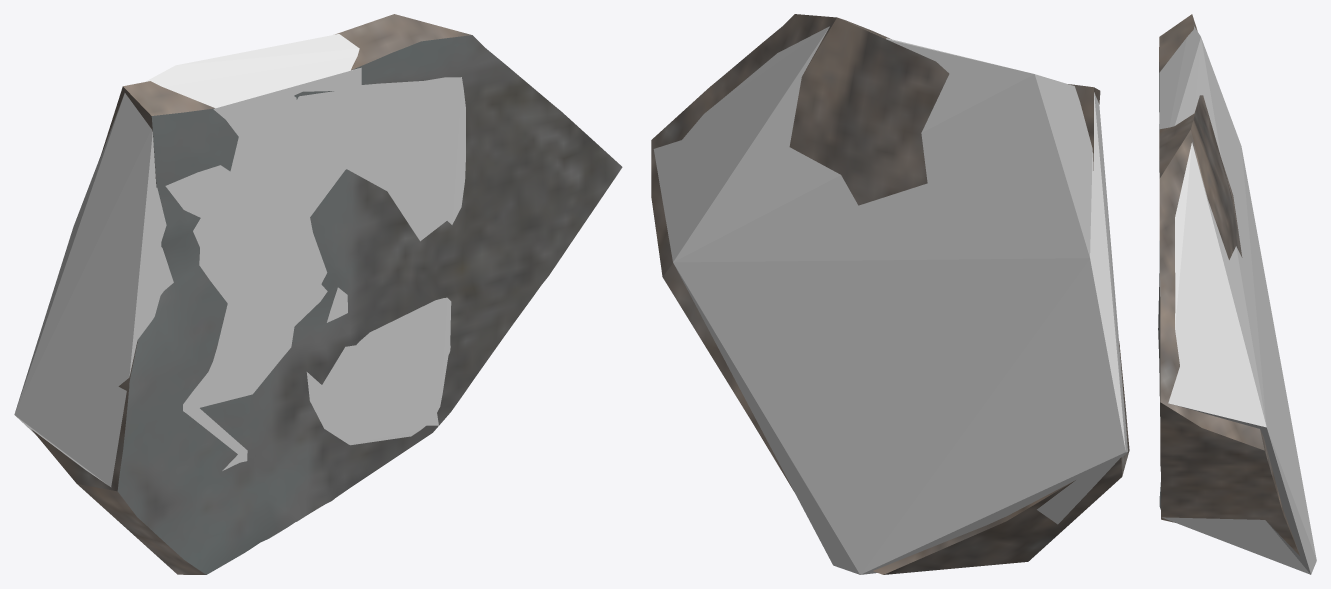
File: SM_Rock_50.fbx
3 renders of one model, left to right at view 1: azimuth 30°, elevation 25°; view 2: azimuth 150°, elevation 25°; view 3: azimuth 270°, elevation 25°, orthographic. The views are drawn at different scales.
Parts seen in each view (by area): view 1: SM_Rock_50_LOD0, SM_Rock_50_ConvexHulls; view 2: SM_Rock_50_ConvexHulls, SM_Rock_50_LOD0; view 3: SM_Rock_50_ConvexHulls, SM_Rock_50_LOD0.
Part boxes in pixels (x1,y1,x2,y2): SM_Rock_50_LOD0: (31,14,622,574); SM_Rock_50_ConvexHulls: (14,34,465,487); SM_Rock_50_ConvexHulls: (653,26,1127,574); SM_Rock_50_LOD0: (651,14,1129,574); SM_Rock_50_ConvexHulls: (1159,26,1316,574); SM_Rock_50_LOD0: (1158,14,1299,555).
Bounding box in the file's own units: 39.82 × 10.73 × 35.44.
